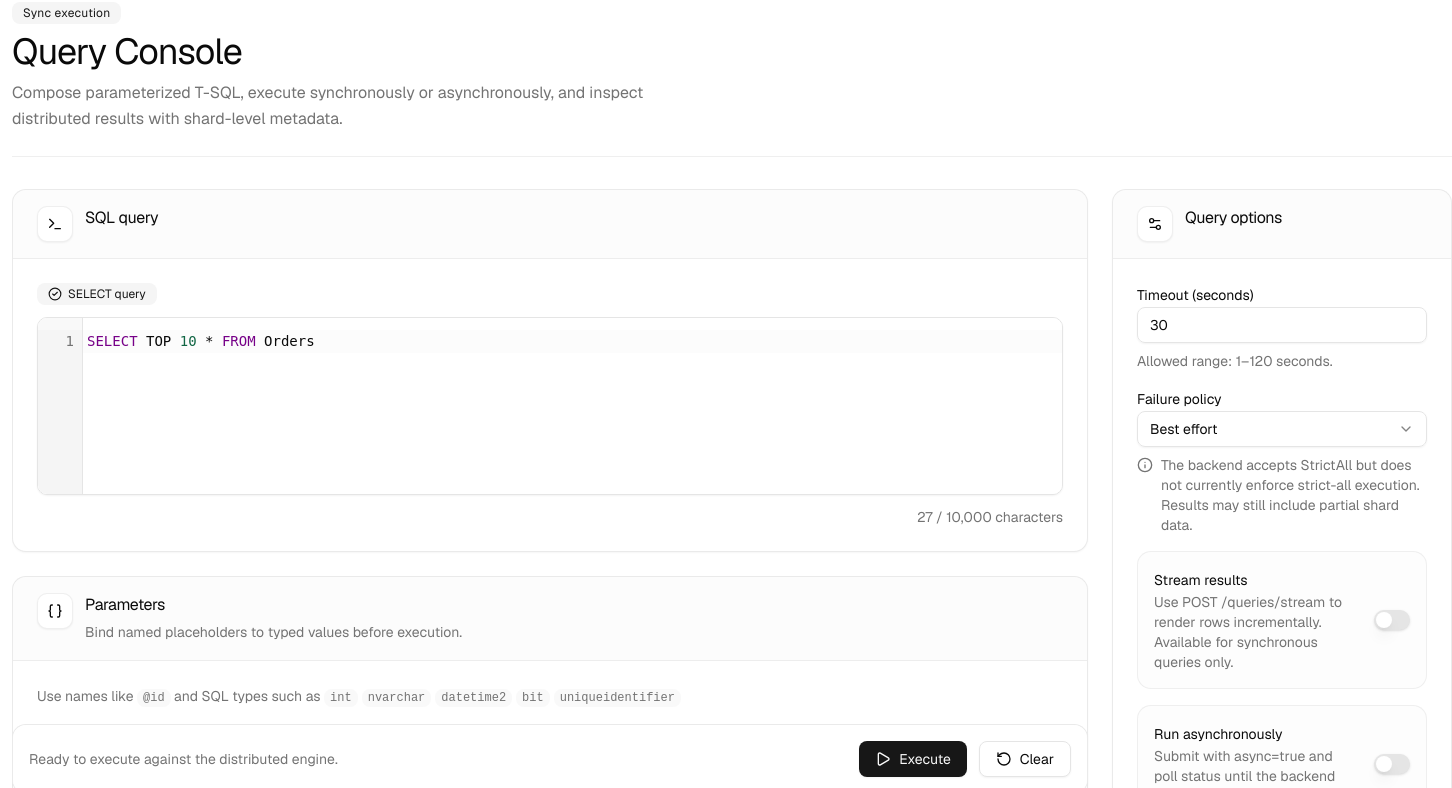
Test: QueryConsolePage › shows client-side validation when SQL is empty
Click the button "Clear": (1025, 759) [979,741,1071,777]
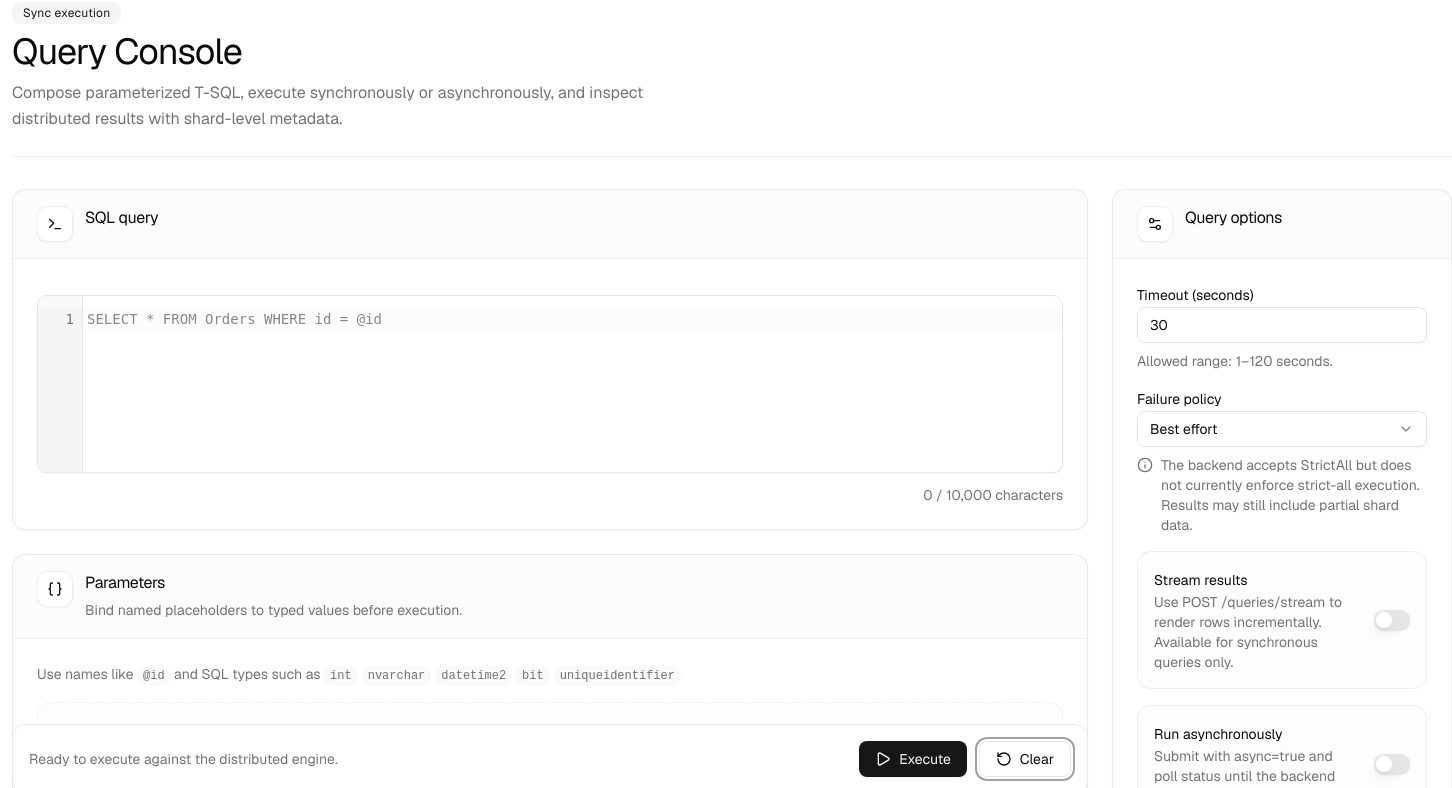
Click the button "Execute": (913, 759) [859,741,967,777]
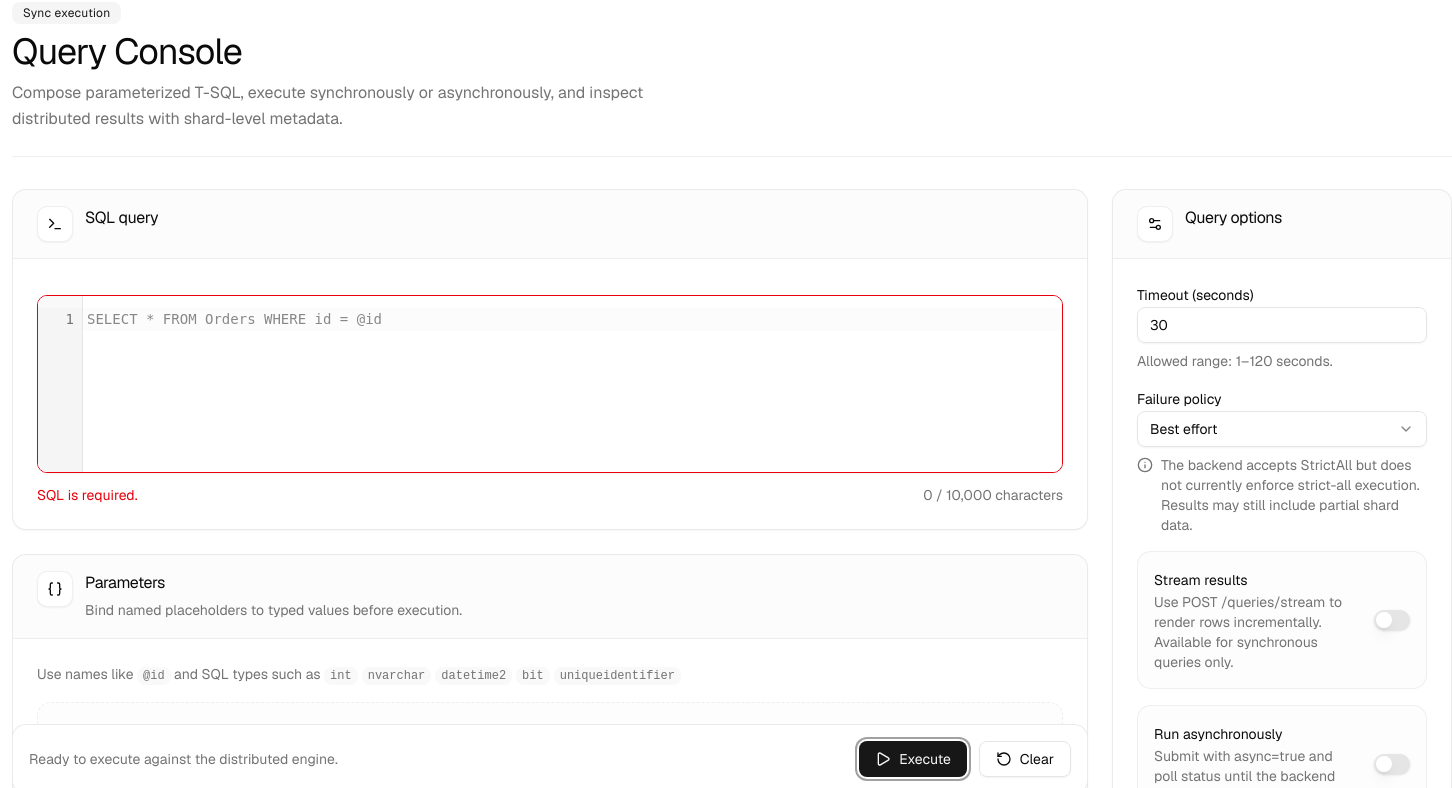
Result: the message reads "SQL is required." at [37,486,138,504]
